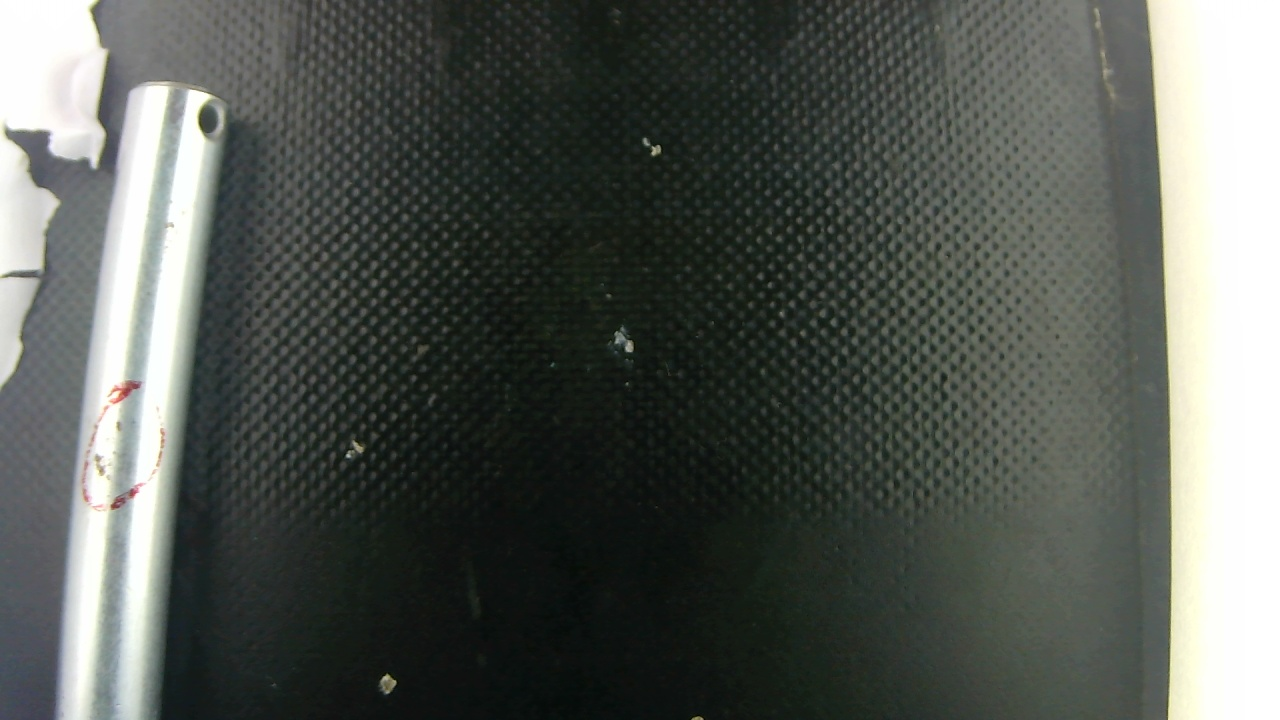rust_pin: (85, 409, 152, 491)
